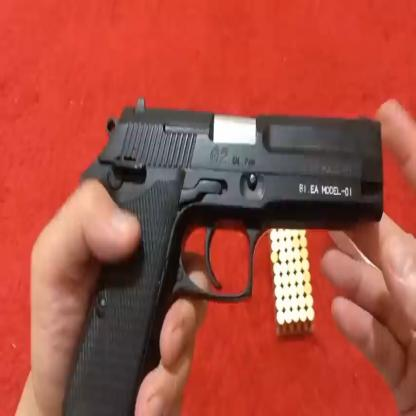handgun: (46, 112, 388, 416)
